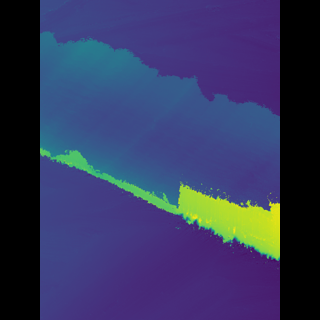Loch: (70, 27, 250, 261)
